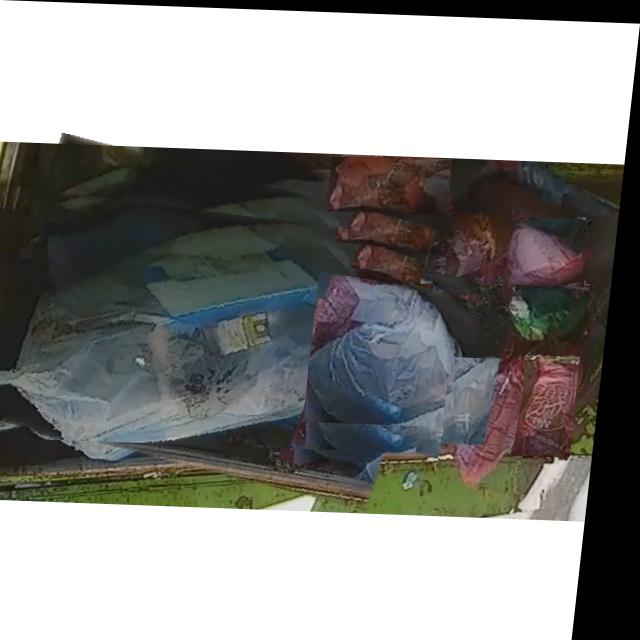general_trashbag: (517, 281, 589, 336)
other_trashbag: (0, 215, 436, 441), (317, 272, 498, 421), (453, 355, 540, 482), (333, 154, 451, 207), (430, 210, 517, 279), (511, 216, 592, 286), (529, 353, 582, 450)
